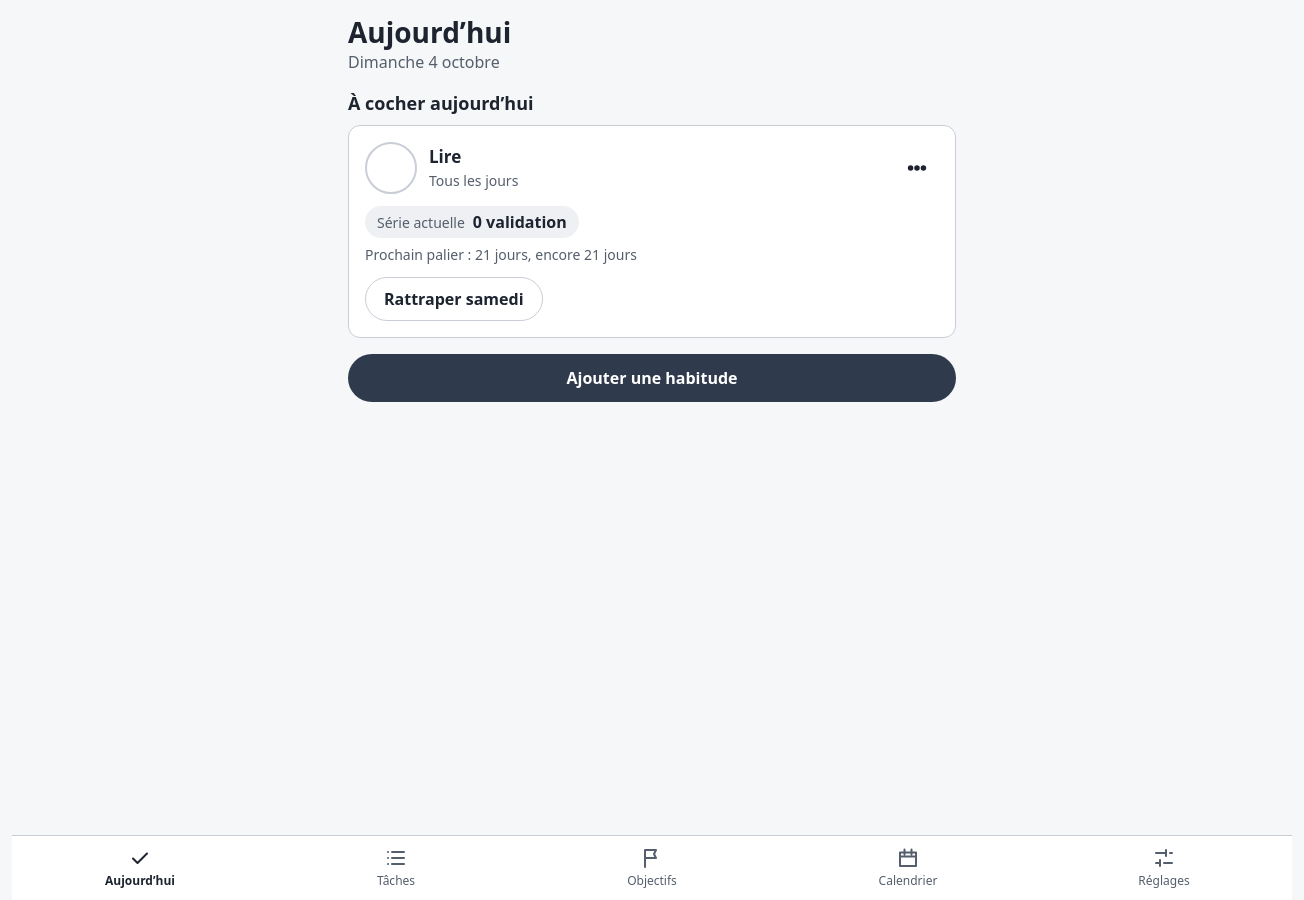
Test: habitudes › propose de rattraper le jour manqué en le nommant et préserve la série
This screenshot has width=1304, height=900.
Check: the heading "Aujourd’hui" is shown, box [348,13,511,51]
Check: the text "0 validation" is shown, box [473,210,567,234]
Click the button with aria-label "Rattraper samedi pour « Lire »" at {"x": 454, "y": 299}, box [365,277,542,321]
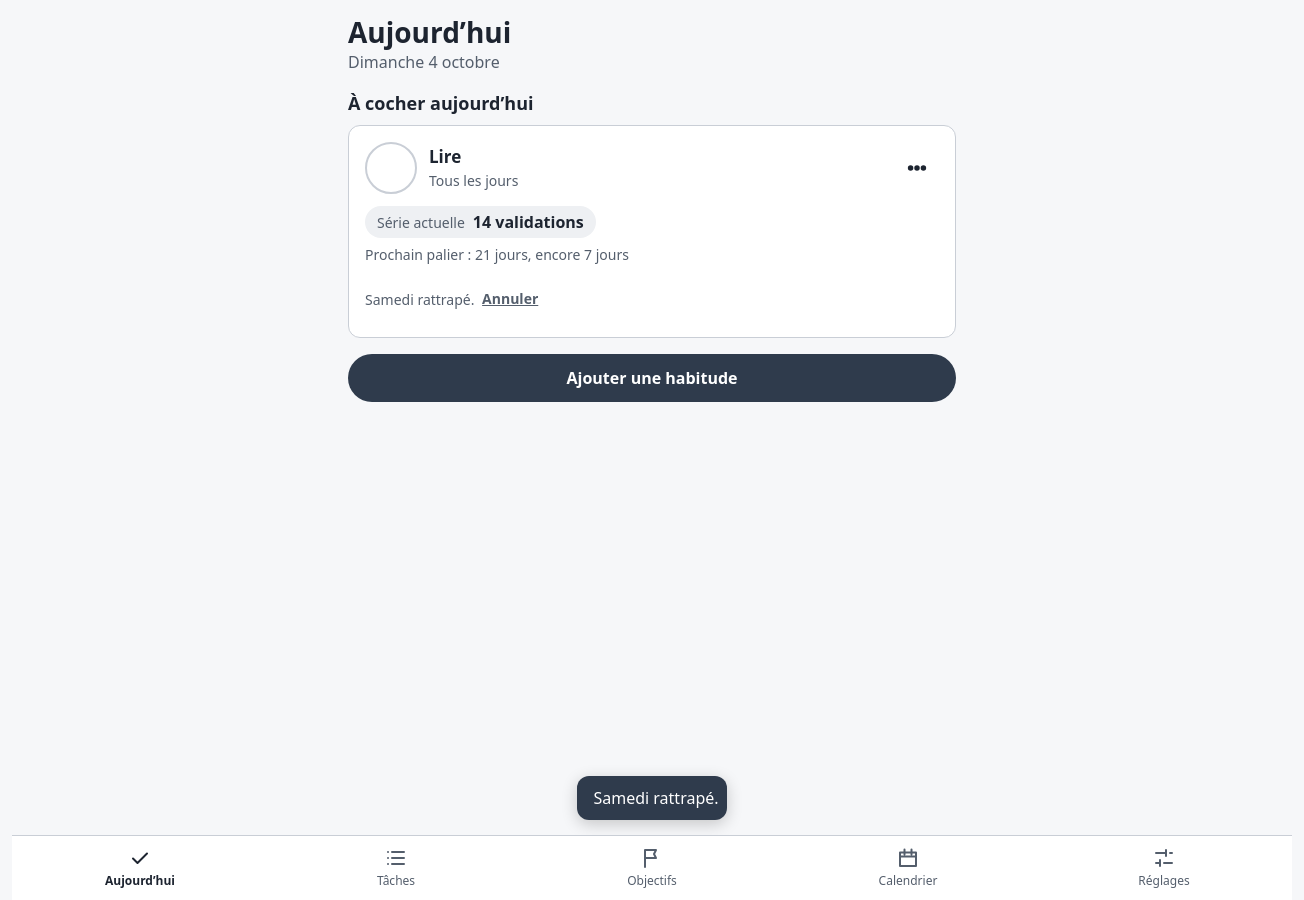
Check: the text "Samedi rattrapé." is shown, box [365,277,542,321]
Check: the text "14 validations" is shown, box [473,210,584,234]
Check: the button "Rattraper" is gone
Click the button with aria-label "Annuler le rattrapage de samedi pour « Lire »" at {"x": 510, "y": 299}, box [478,277,542,321]
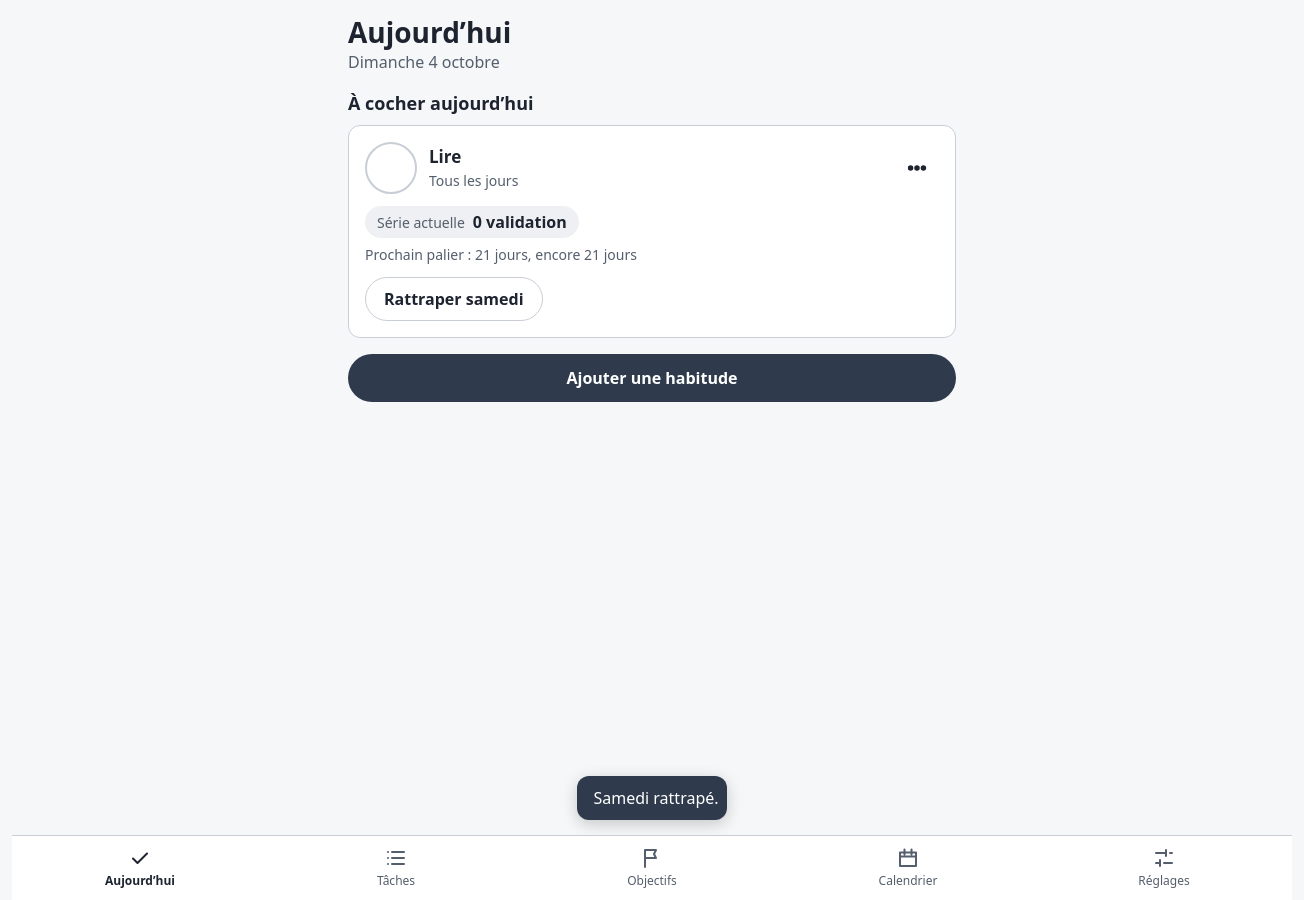
Check: the button with aria-label "Rattraper samedi pour « Lire »" is shown, box [365,277,542,321]
